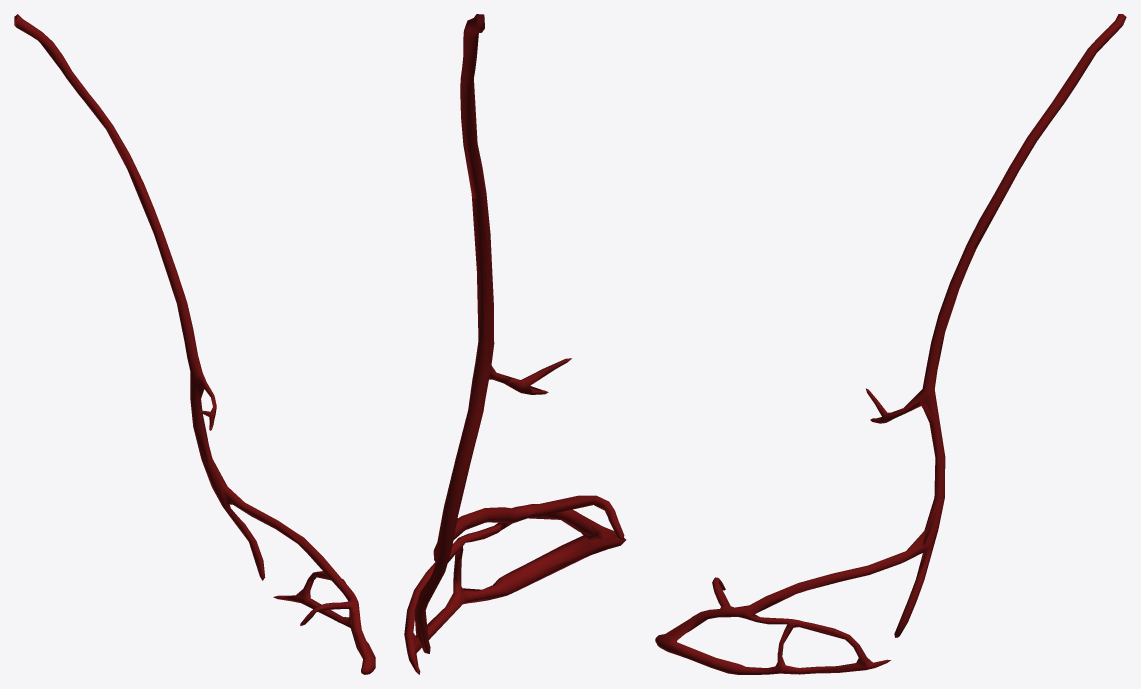
File: LB digitales lateralis.fbx
The picture shows the model from 3 angles, left to right: view 1: azimuth 30°, elevation 25°; view 2: azimuth 150°, elevation 25°; view 3: azimuth 270°, elevation 25°; orthographic projection. The views are drawn at different scales.
Visible parts, largest first — view 1: LB digitales lateralis, LB digitales lateralis low; view 2: LB digitales lateralis low, LB digitales lateralis; view 3: LB digitales lateralis, LB digitales lateralis low.
Boxes of the visible parts, x1,y1,x2,y2 form: LB digitales lateralis: [14, 14, 375, 674]; LB digitales lateralis low: [14, 17, 375, 672]; LB digitales lateralis low: [405, 15, 625, 666]; LB digitales lateralis: [404, 14, 625, 674]; LB digitales lateralis: [655, 14, 1126, 674]; LB digitales lateralis low: [659, 17, 1123, 674].
Bounding box in the file's own units: 3.79 × 10.95 × 8.11.
